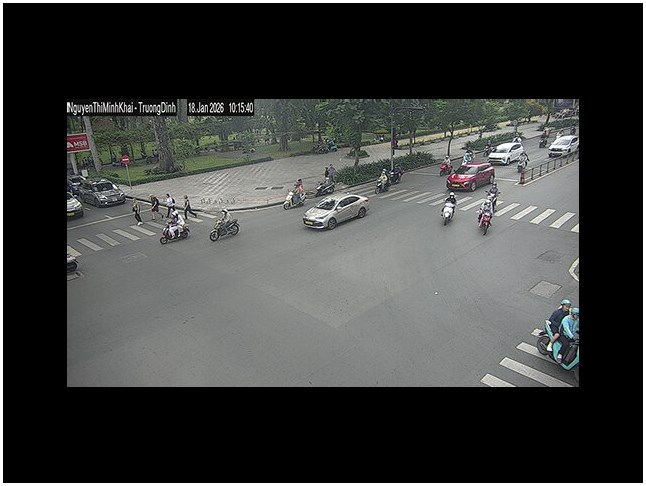car: (302, 194, 370, 232), (446, 161, 496, 192), (75, 179, 128, 207), (487, 141, 529, 166), (548, 134, 578, 157), (67, 194, 84, 217)
motorbike: (209, 214, 240, 242), (160, 216, 191, 244), (440, 193, 457, 226)
